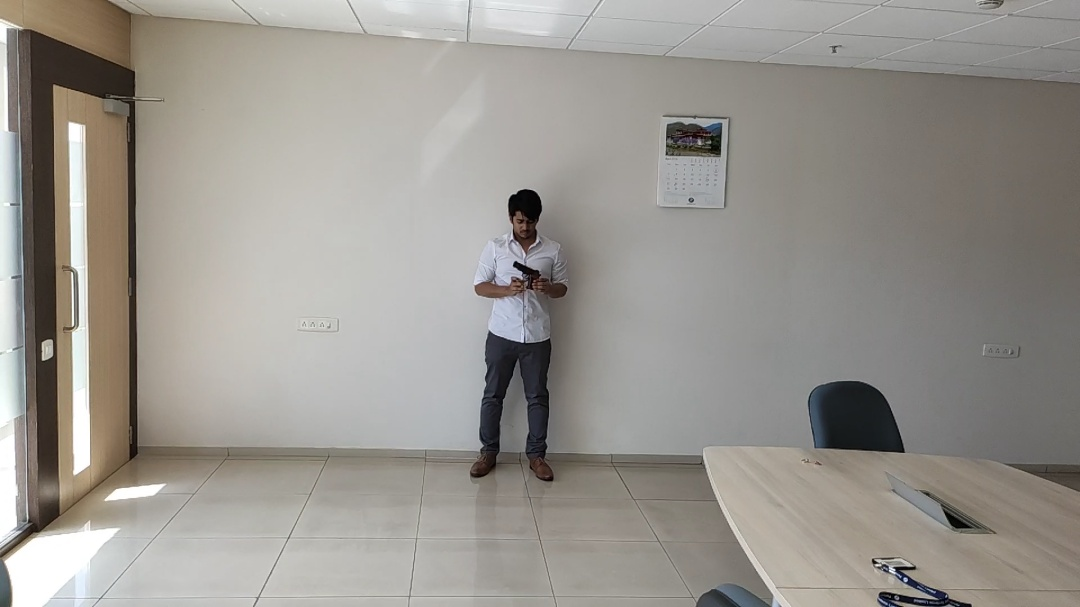gun: (404, 92, 691, 511)
